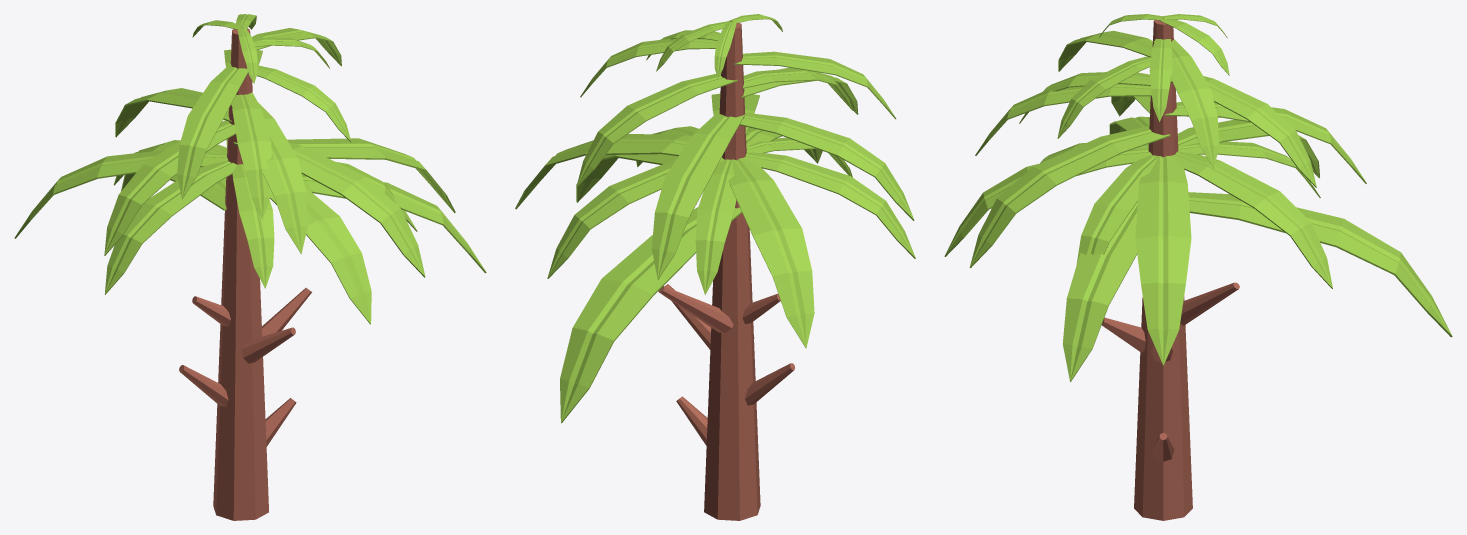
Rendered from tree_1_fixed.fbx.
3 renders of one model, left to right at view 1: azimuth 30°, elevation 25°; view 2: azimuth 150°, elevation 25°; view 3: azimuth 270°, elevation 25°, orthographic. The views are drawn at different scales.
Parts seen in each view (by area): view 1: Tree5; view 2: Tree5; view 3: Tree5.
Part boxes in pixels (x1=…): Tree5: x1=14, y1=14, x2=486, y2=520; Tree5: x1=515, y1=14, x2=915, y2=520; Tree5: x1=944, y1=14, x2=1452, y2=520.
Bounding box in the file's own units: 507 × 625 × 586.
